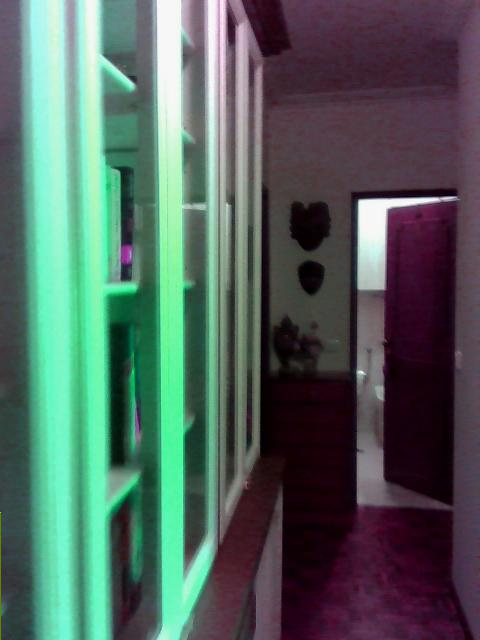semi_door: (350, 188, 457, 509)
